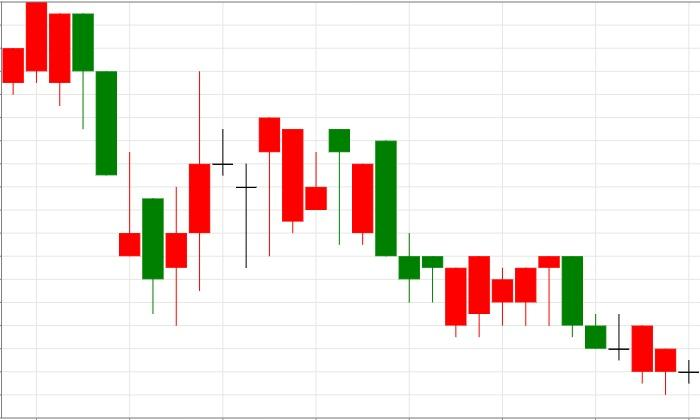hanging_man_fall: (166, 71, 281, 326)
